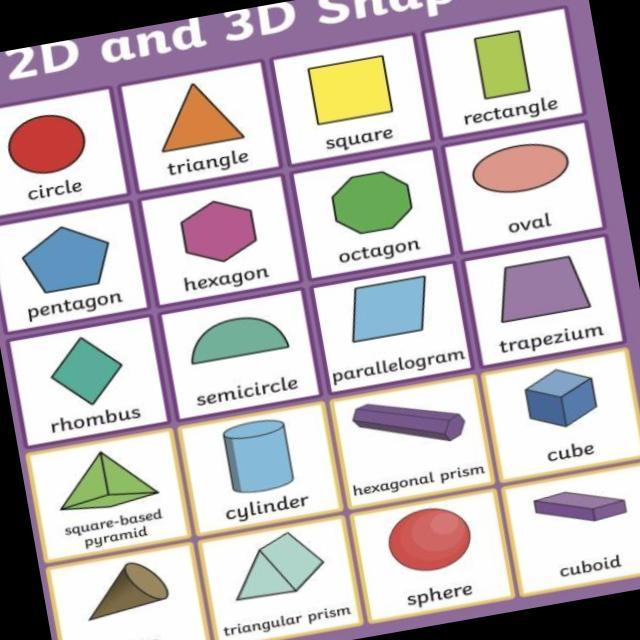circle: (366, 498, 502, 597), (0, 98, 102, 196)
square: (293, 58, 425, 152)
triangle: (150, 73, 258, 168)
